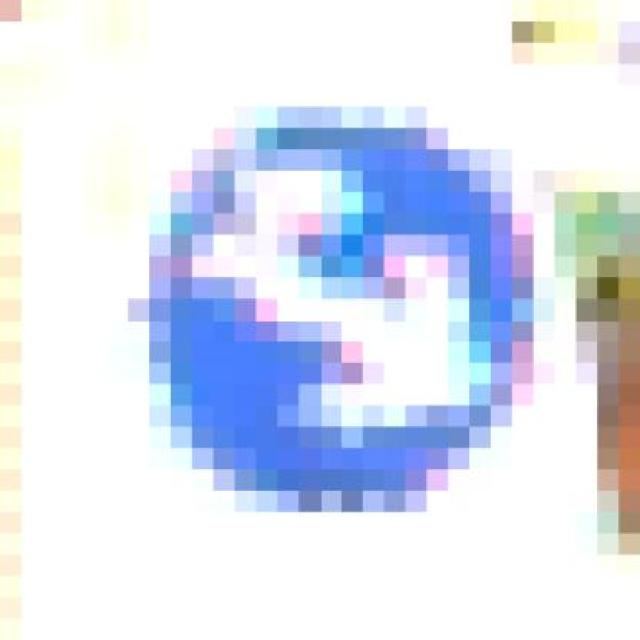Keep-Right: (86, 106, 554, 534)
